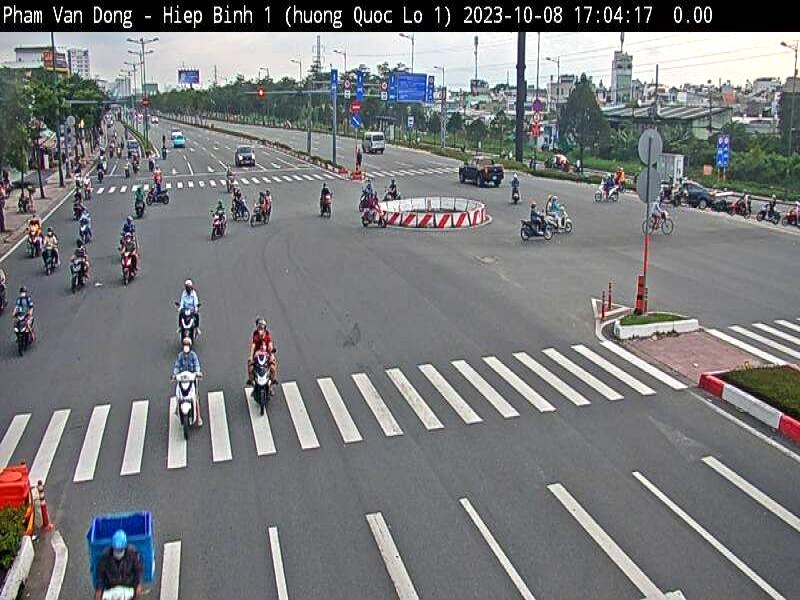car: (458, 156, 506, 188), (361, 130, 386, 155), (234, 146, 258, 166)
motorcycle: (170, 370, 204, 440), (250, 346, 277, 417), (175, 300, 202, 347), (12, 311, 35, 357), (520, 214, 552, 240), (118, 248, 139, 285), (70, 256, 88, 292), (552, 206, 574, 233), (594, 181, 620, 203), (42, 244, 57, 276)
